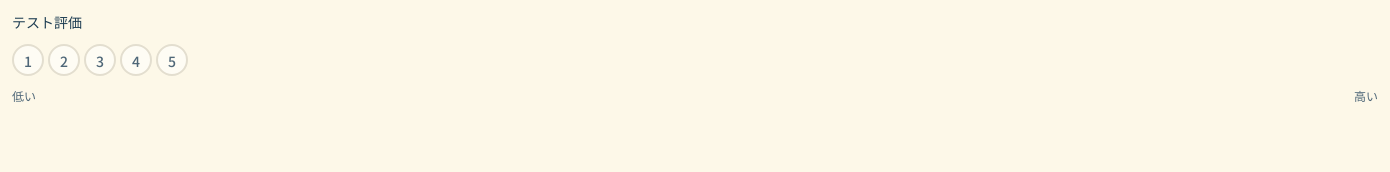
RatingSelector › マウスホバーで適切なラベルが表示される
Hover over the radio button named "4段階" at (136, 60), box 120,44 -> 152,76
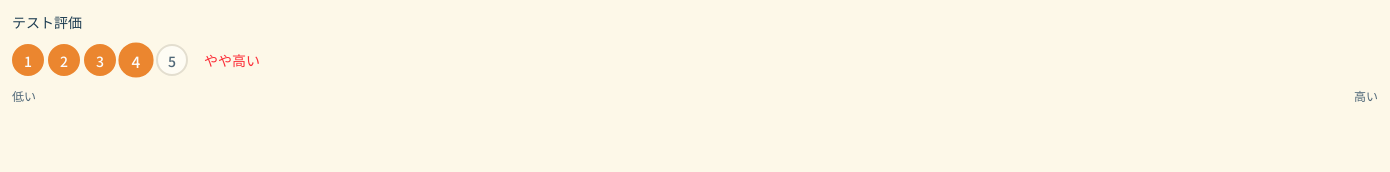
Expected: the text "やや高い" is shown, 204,50 -> 260,70
